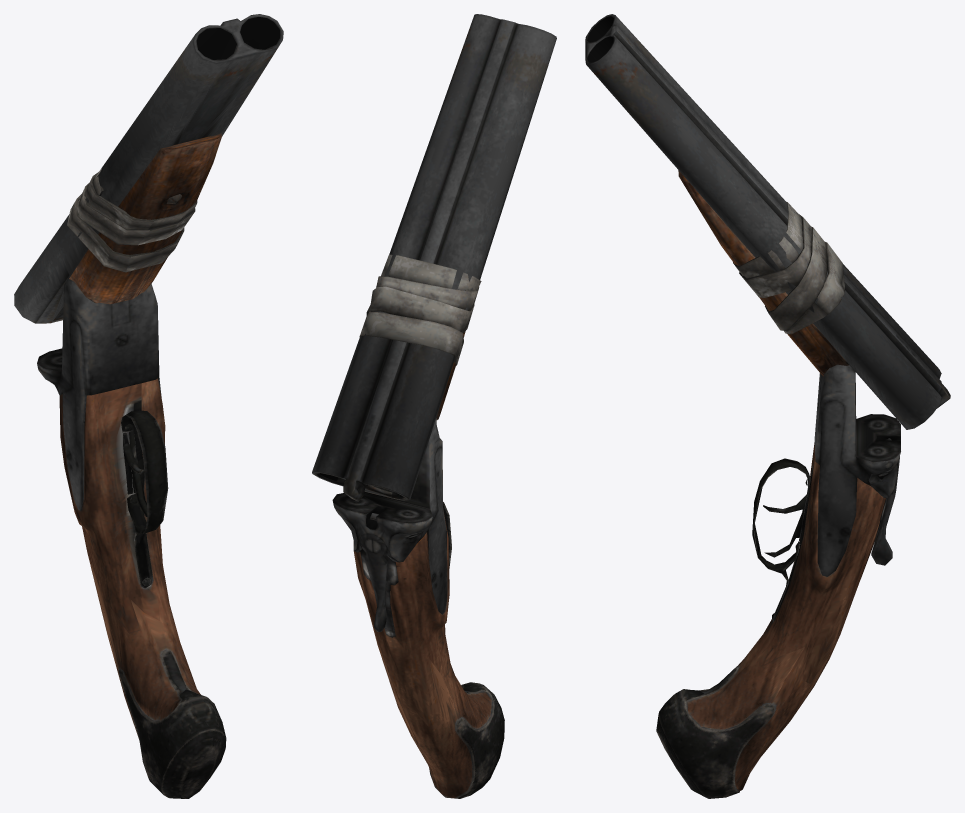
The model's file is DoubleBarrelShotgunSawnoff_OPEN.fbx.
The picture shows the model from 3 angles, left to right: view 1: azimuth 30°, elevation 25°; view 2: azimuth 150°, elevation 25°; view 3: azimuth 270°, elevation 25°; orthographic projection. The views are drawn at different scales.
Visible parts, largest first — view 1: DoubleBarrelSawnOffOpen; view 2: DoubleBarrelSawnOffOpen; view 3: DoubleBarrelSawnOffOpen.
Part boxes in pixels (x1,y1,x2,y2): DoubleBarrelSawnOffOpen: [14, 14, 283, 798]; DoubleBarrelSawnOffOpen: [312, 14, 556, 798]; DoubleBarrelSawnOffOpen: [585, 14, 950, 798].
Bounding box in the file's own units: 0.0417 × 0.3087 × 0.1331.
